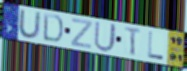D: (42, 12, 64, 44)
L: (146, 30, 165, 61)
T: (124, 26, 143, 57)
U: (93, 20, 118, 54), (17, 9, 42, 41)
Z: (70, 17, 94, 50)
